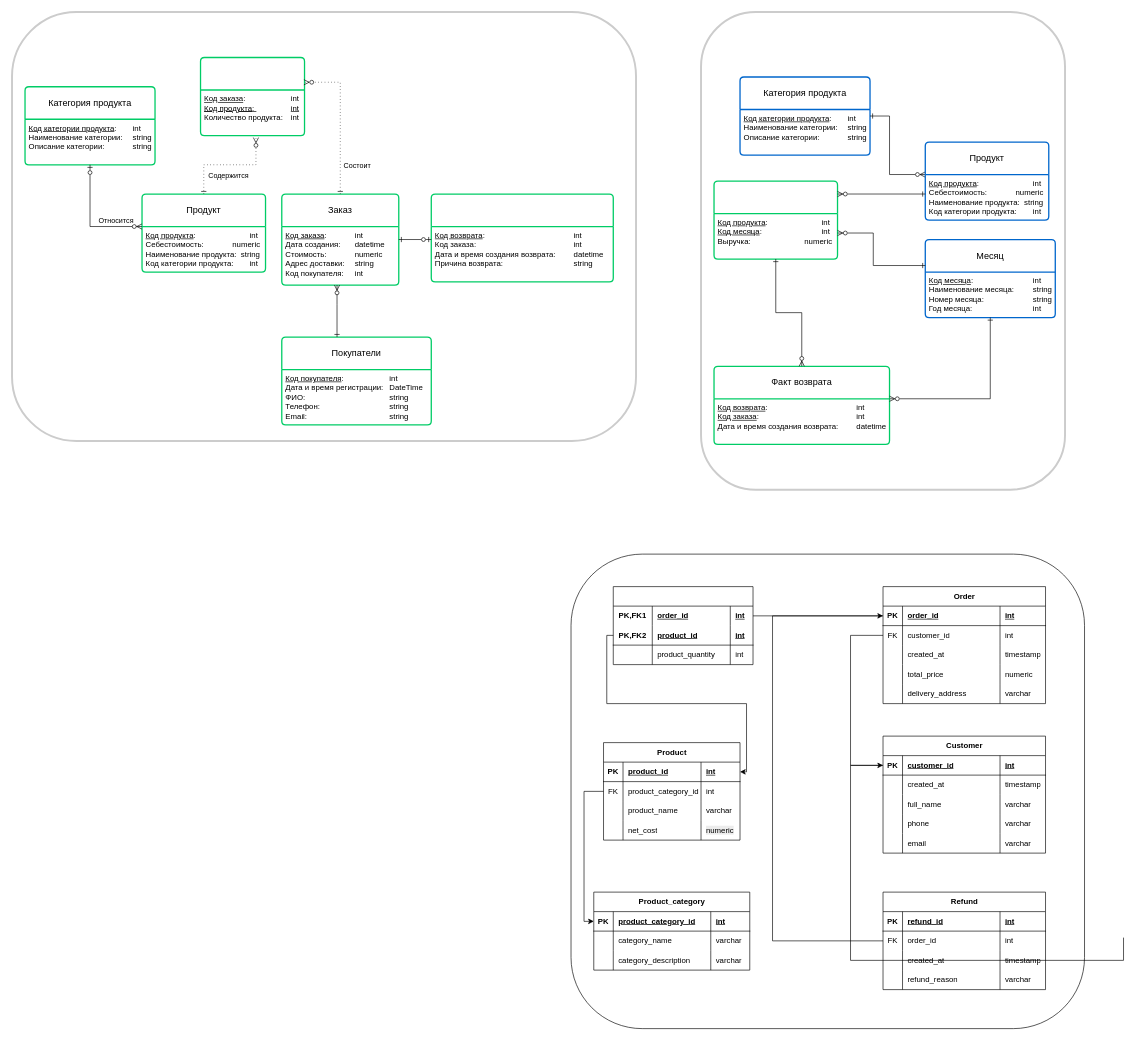
The diagram is 1136 pixels wide and 1040 high, and some of its shapes have lost their labels. Here are the shapes that lost their labels. From the top down, the box of each, then its label:
(200, 57, 305, 136): Заказ-Продукт
(11, 11, 637, 442): Логическая модель данных Core Data Layer
(430, 193, 614, 282): Возвраты
(713, 180, 838, 259): Факт выручки
(700, 11, 1066, 490): Логическая модель данных Data Mart Layer "Снежинка"
(613, 586, 753, 665): Order_product
(570, 553, 1085, 1029): Физическая модель Core Data Layer
